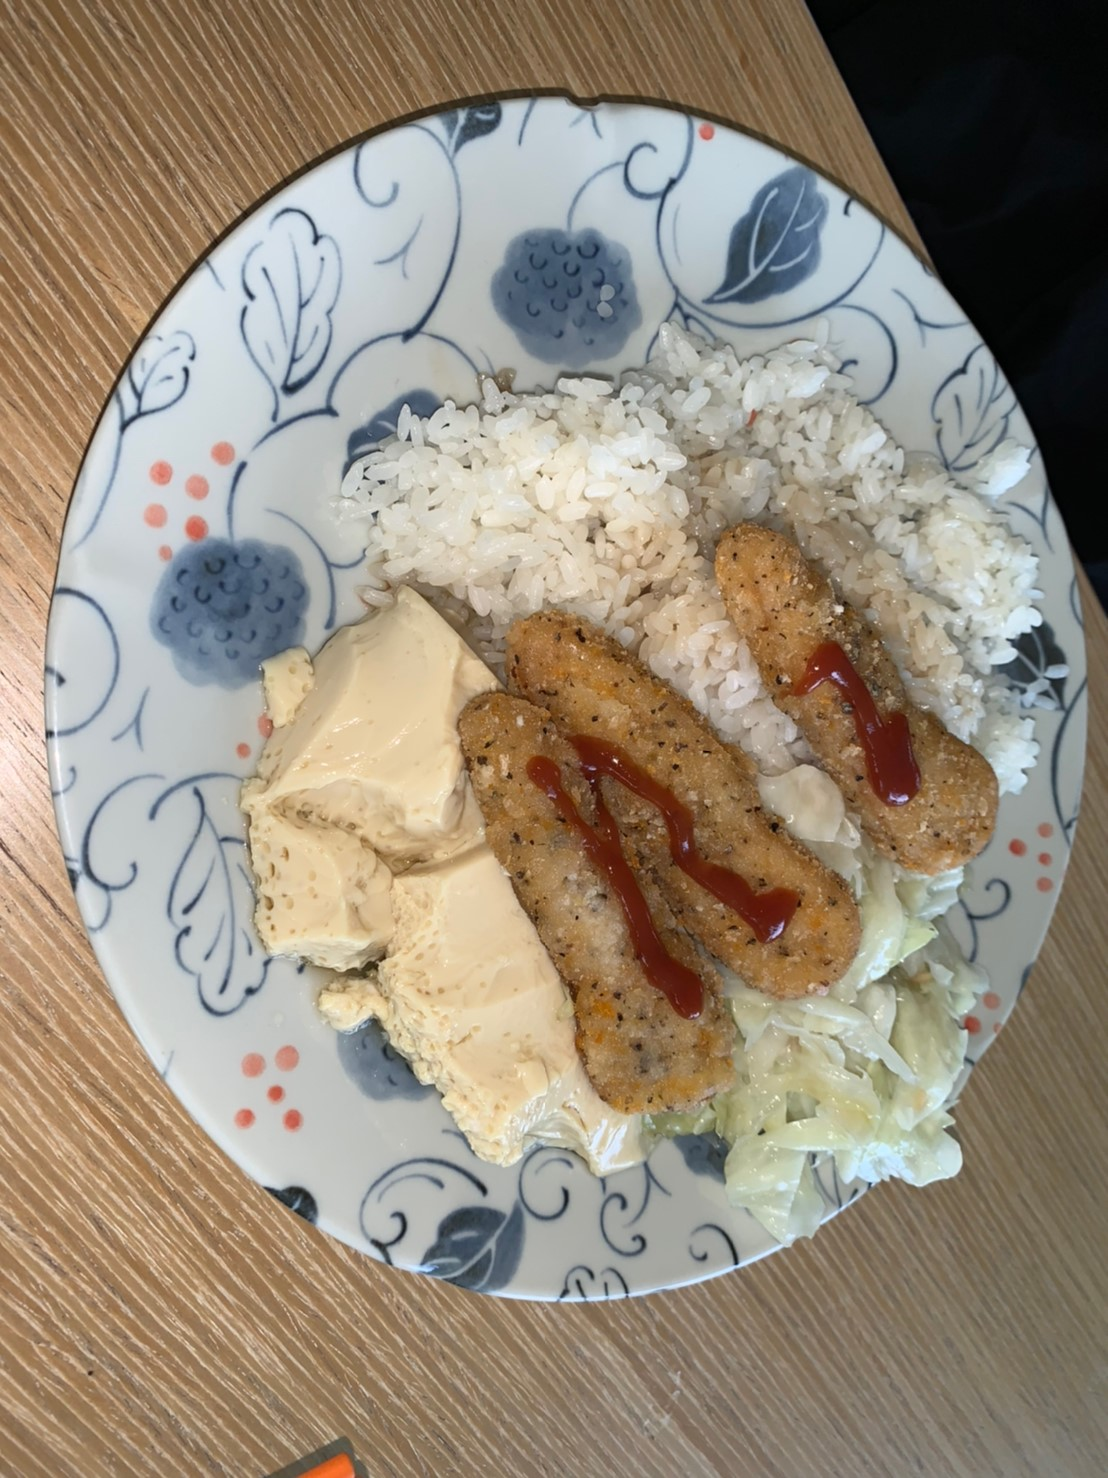chinese_cabbage: (734, 935, 974, 1206)
rice: (350, 348, 716, 638)
